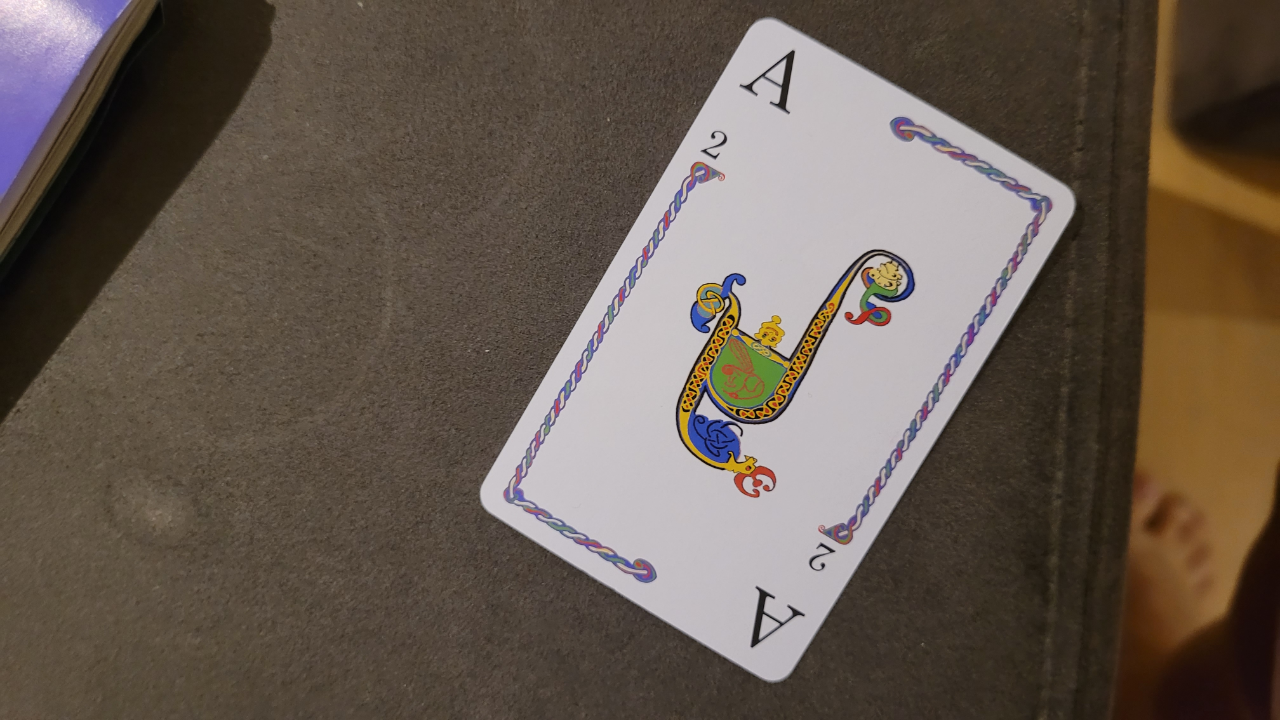quiddler_card: (440, 13, 1104, 701)
